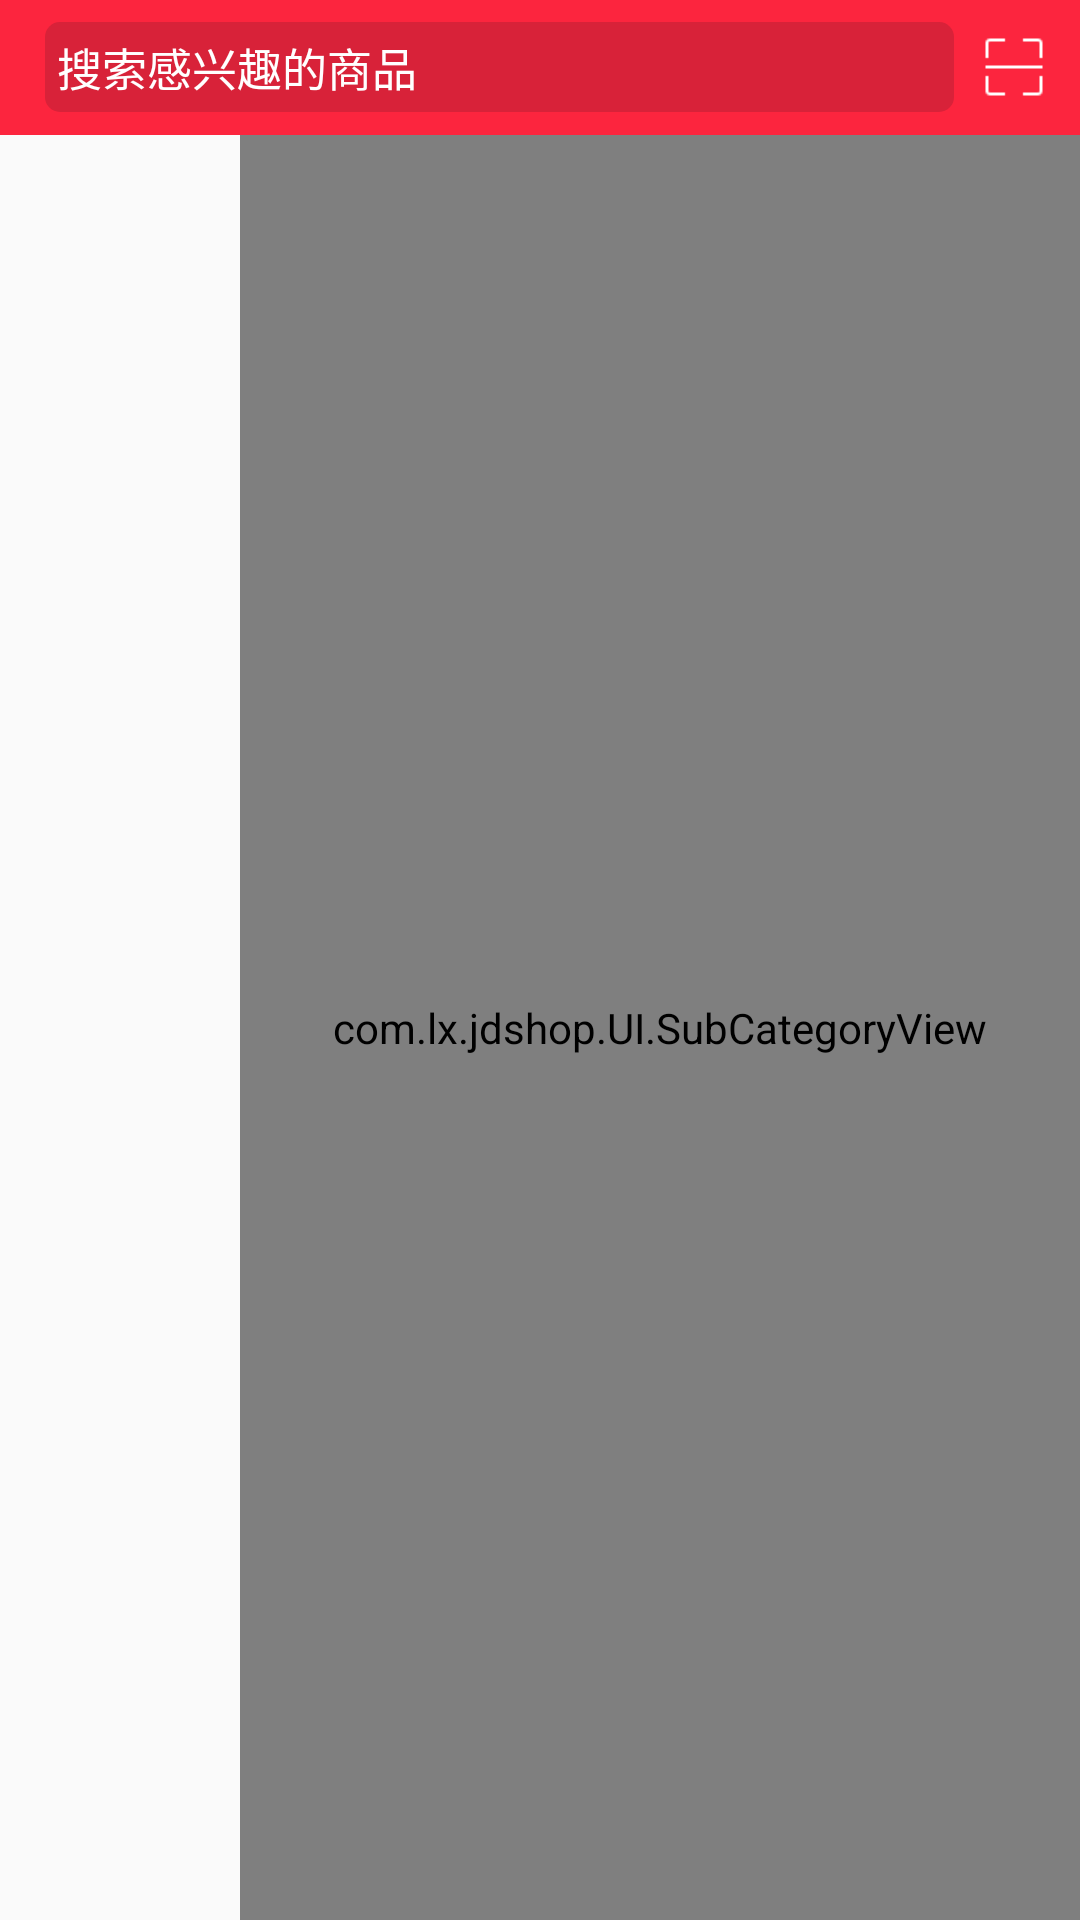

Icon click points for this 1080*1920 phone screenshot, format (x=x, y=y):
scan: (x=1014, y=67)
